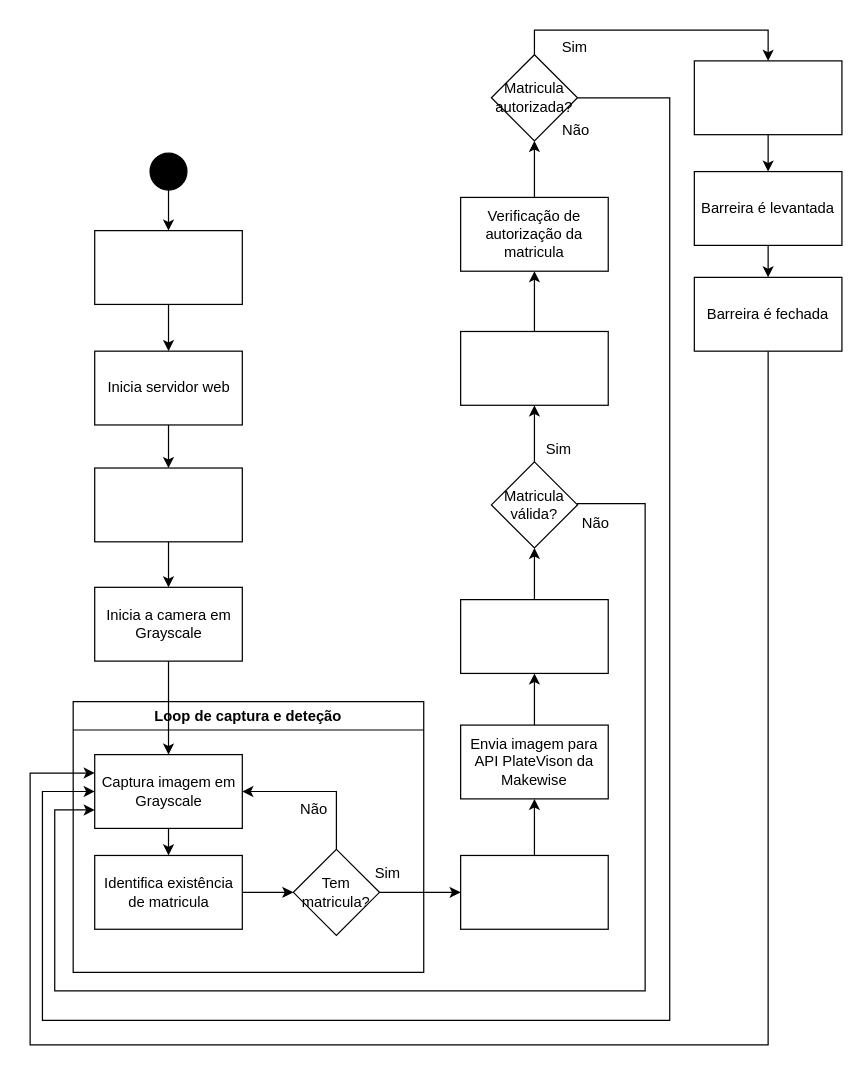
Some shapes in this 863 by 1076 pixel diagram are drawn without their labels. Here are the shapes that lost their labels. From the top down, the box of each, then its label:
(693, 60, 842, 135): Envia sinal para a barreira
(93, 229, 242, 304): Conecta á Internet
(459, 330, 608, 405): Dados da matricula guardados na BD
(93, 467, 242, 542): Carrega dados da BD
(459, 598, 608, 673): API retorna os dados da matricula
(459, 854, 608, 929): Captura imagem jpeg a cores
